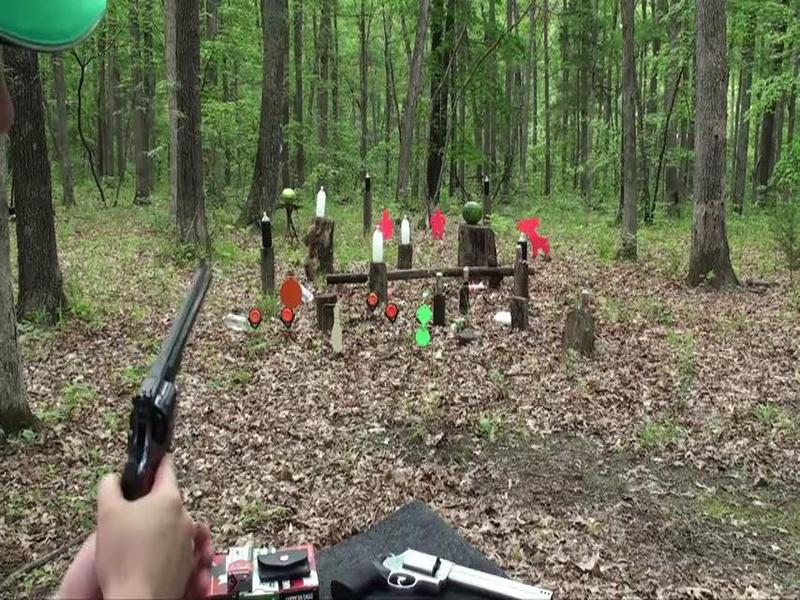Revolver: (96, 253, 217, 528)
